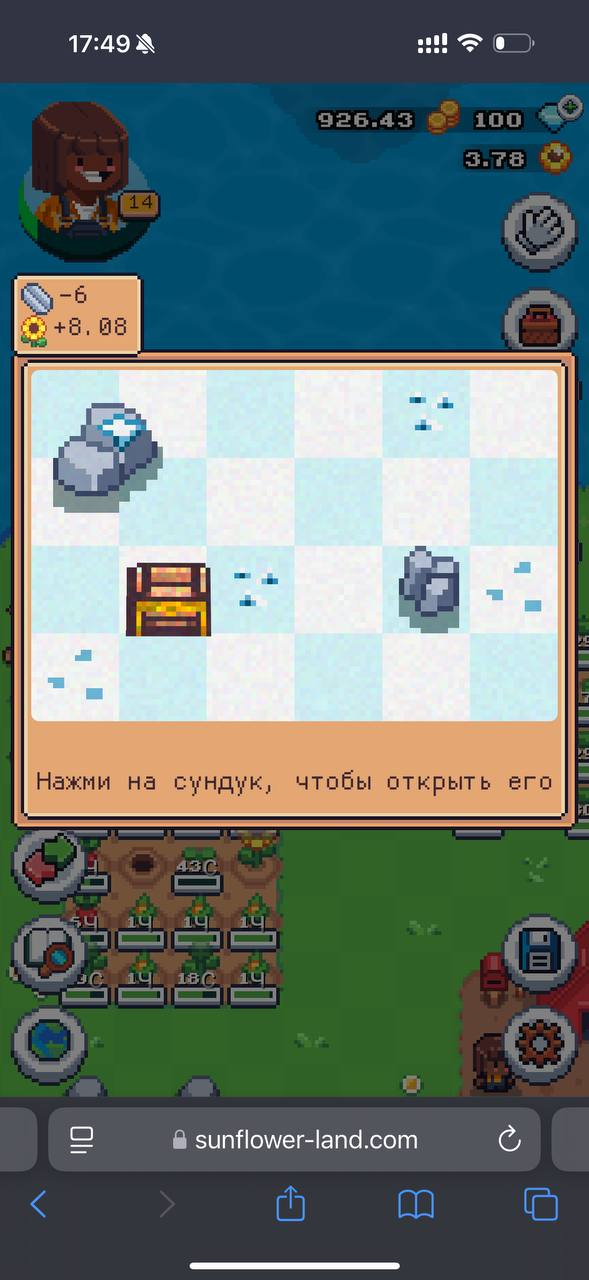capcha_chest: (127, 560, 213, 641)
